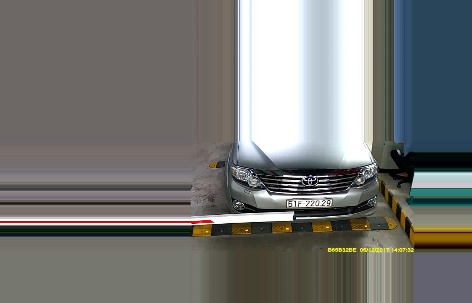plate: (284, 198, 333, 207)
